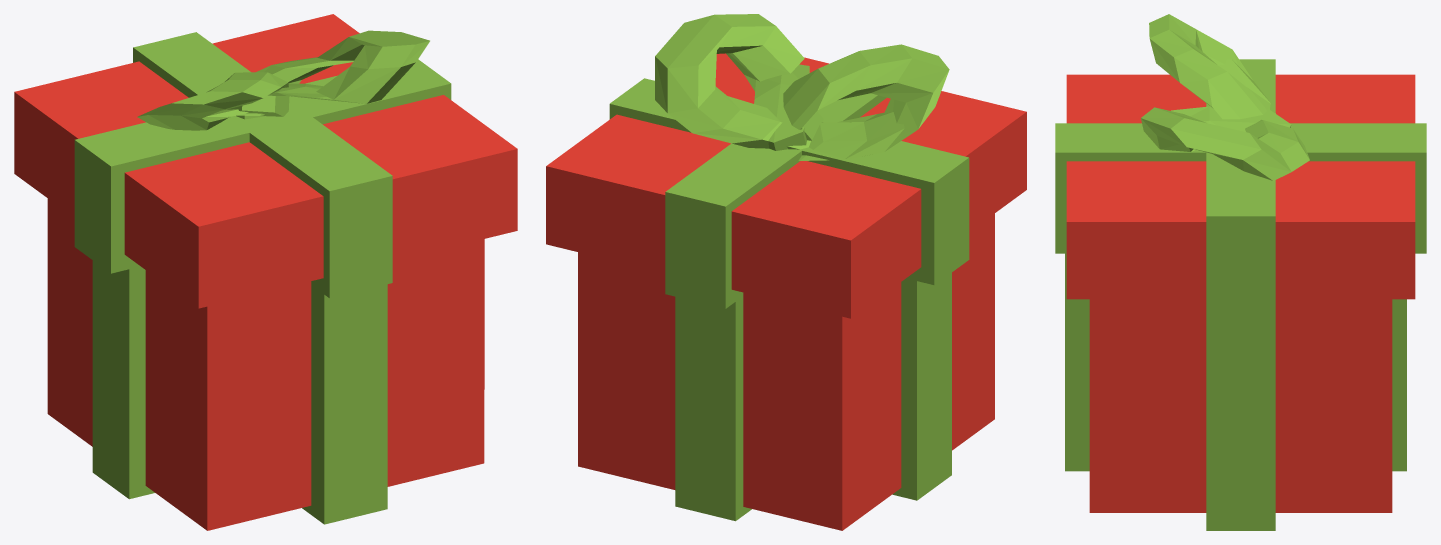
File: present-3.glb
3 views of the same model, side by side, from view 1: azimuth 30°, elevation 25°; view 2: azimuth 150°, elevation 25°; view 3: azimuth 270°, elevation 25° (orthographic). The views are drawn at different scales.
Visible parts, largest first — view 1: Node; view 2: Node; view 3: Node.
Boxes of the visible parts, box(x1,y1,x2,y2) form: Node: box(14, 14, 517, 530); Node: box(546, 14, 1026, 530); Node: box(1055, 14, 1426, 530).
Size of the model in its own units: 1.13 by 1.3 by 1.13.
